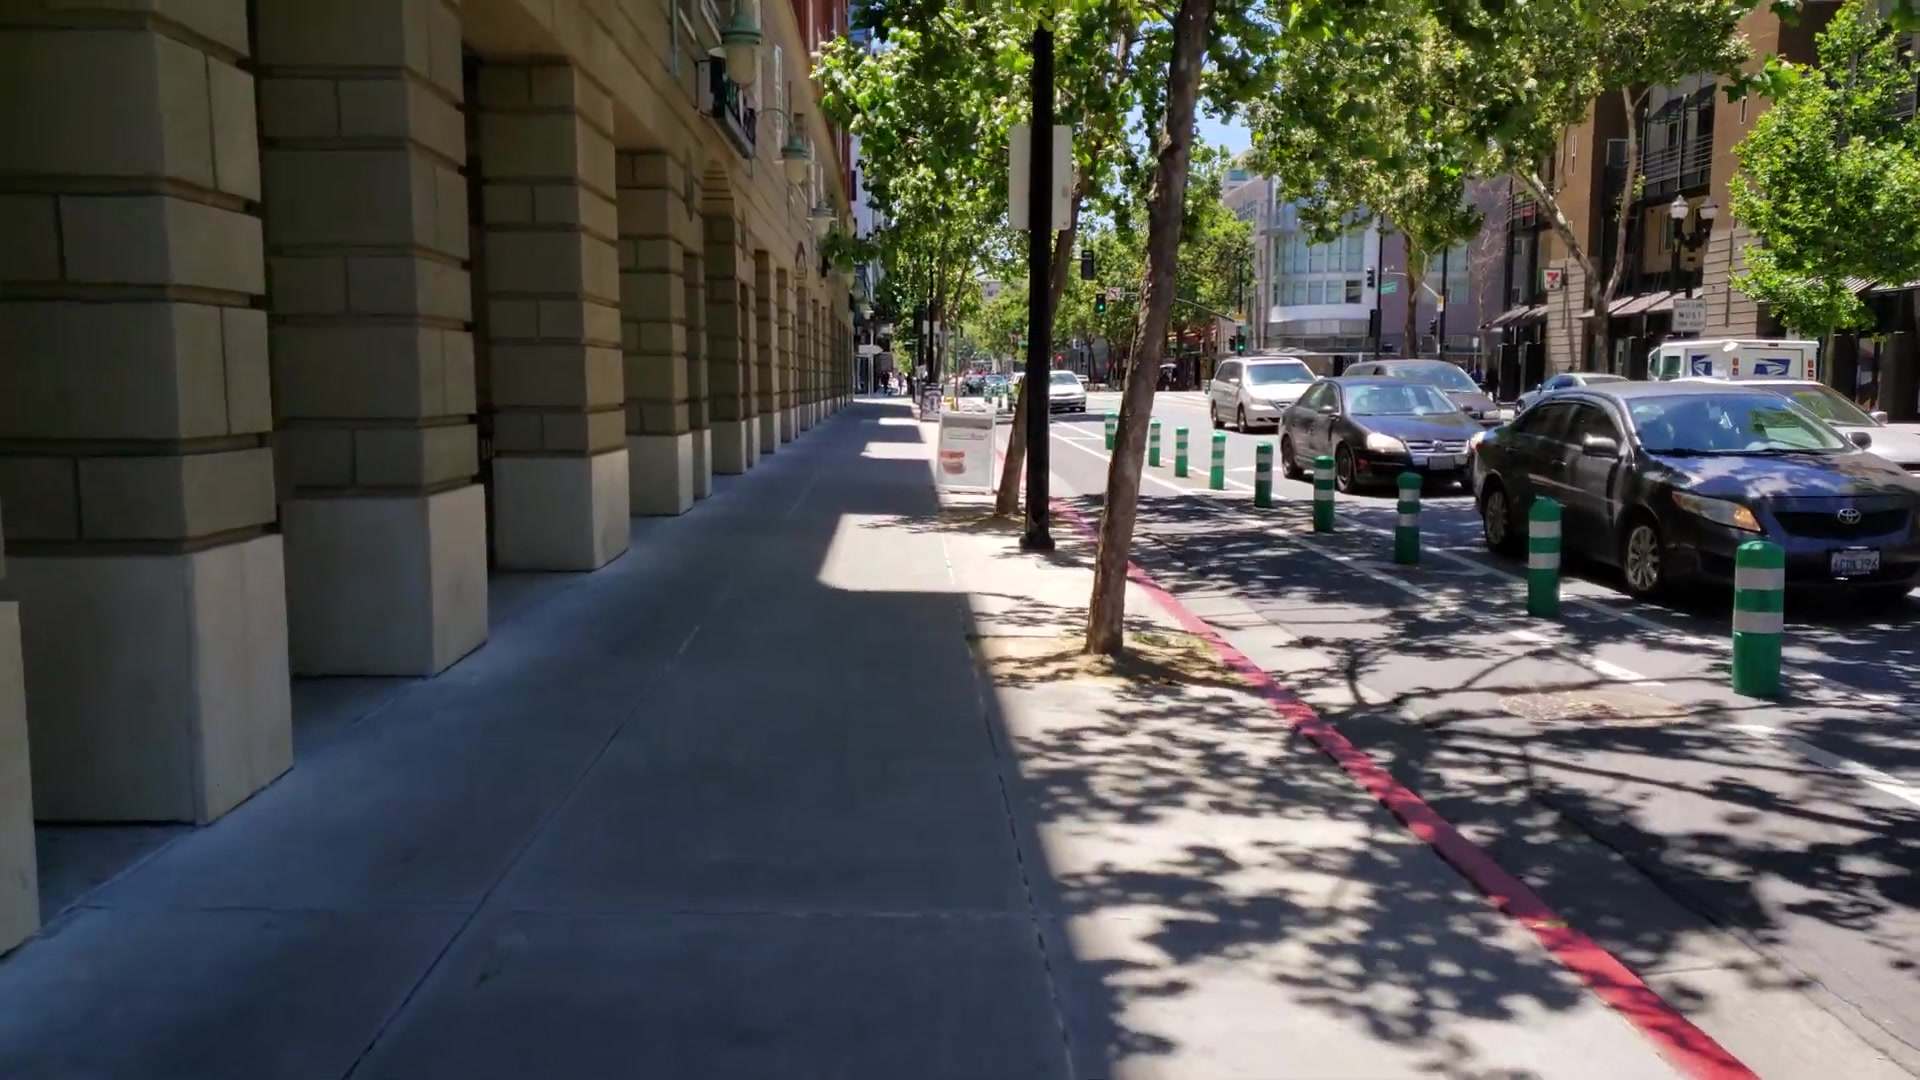vehicle: (1474, 381, 1920, 616), (1279, 375, 1472, 487), (1211, 356, 1317, 429)
